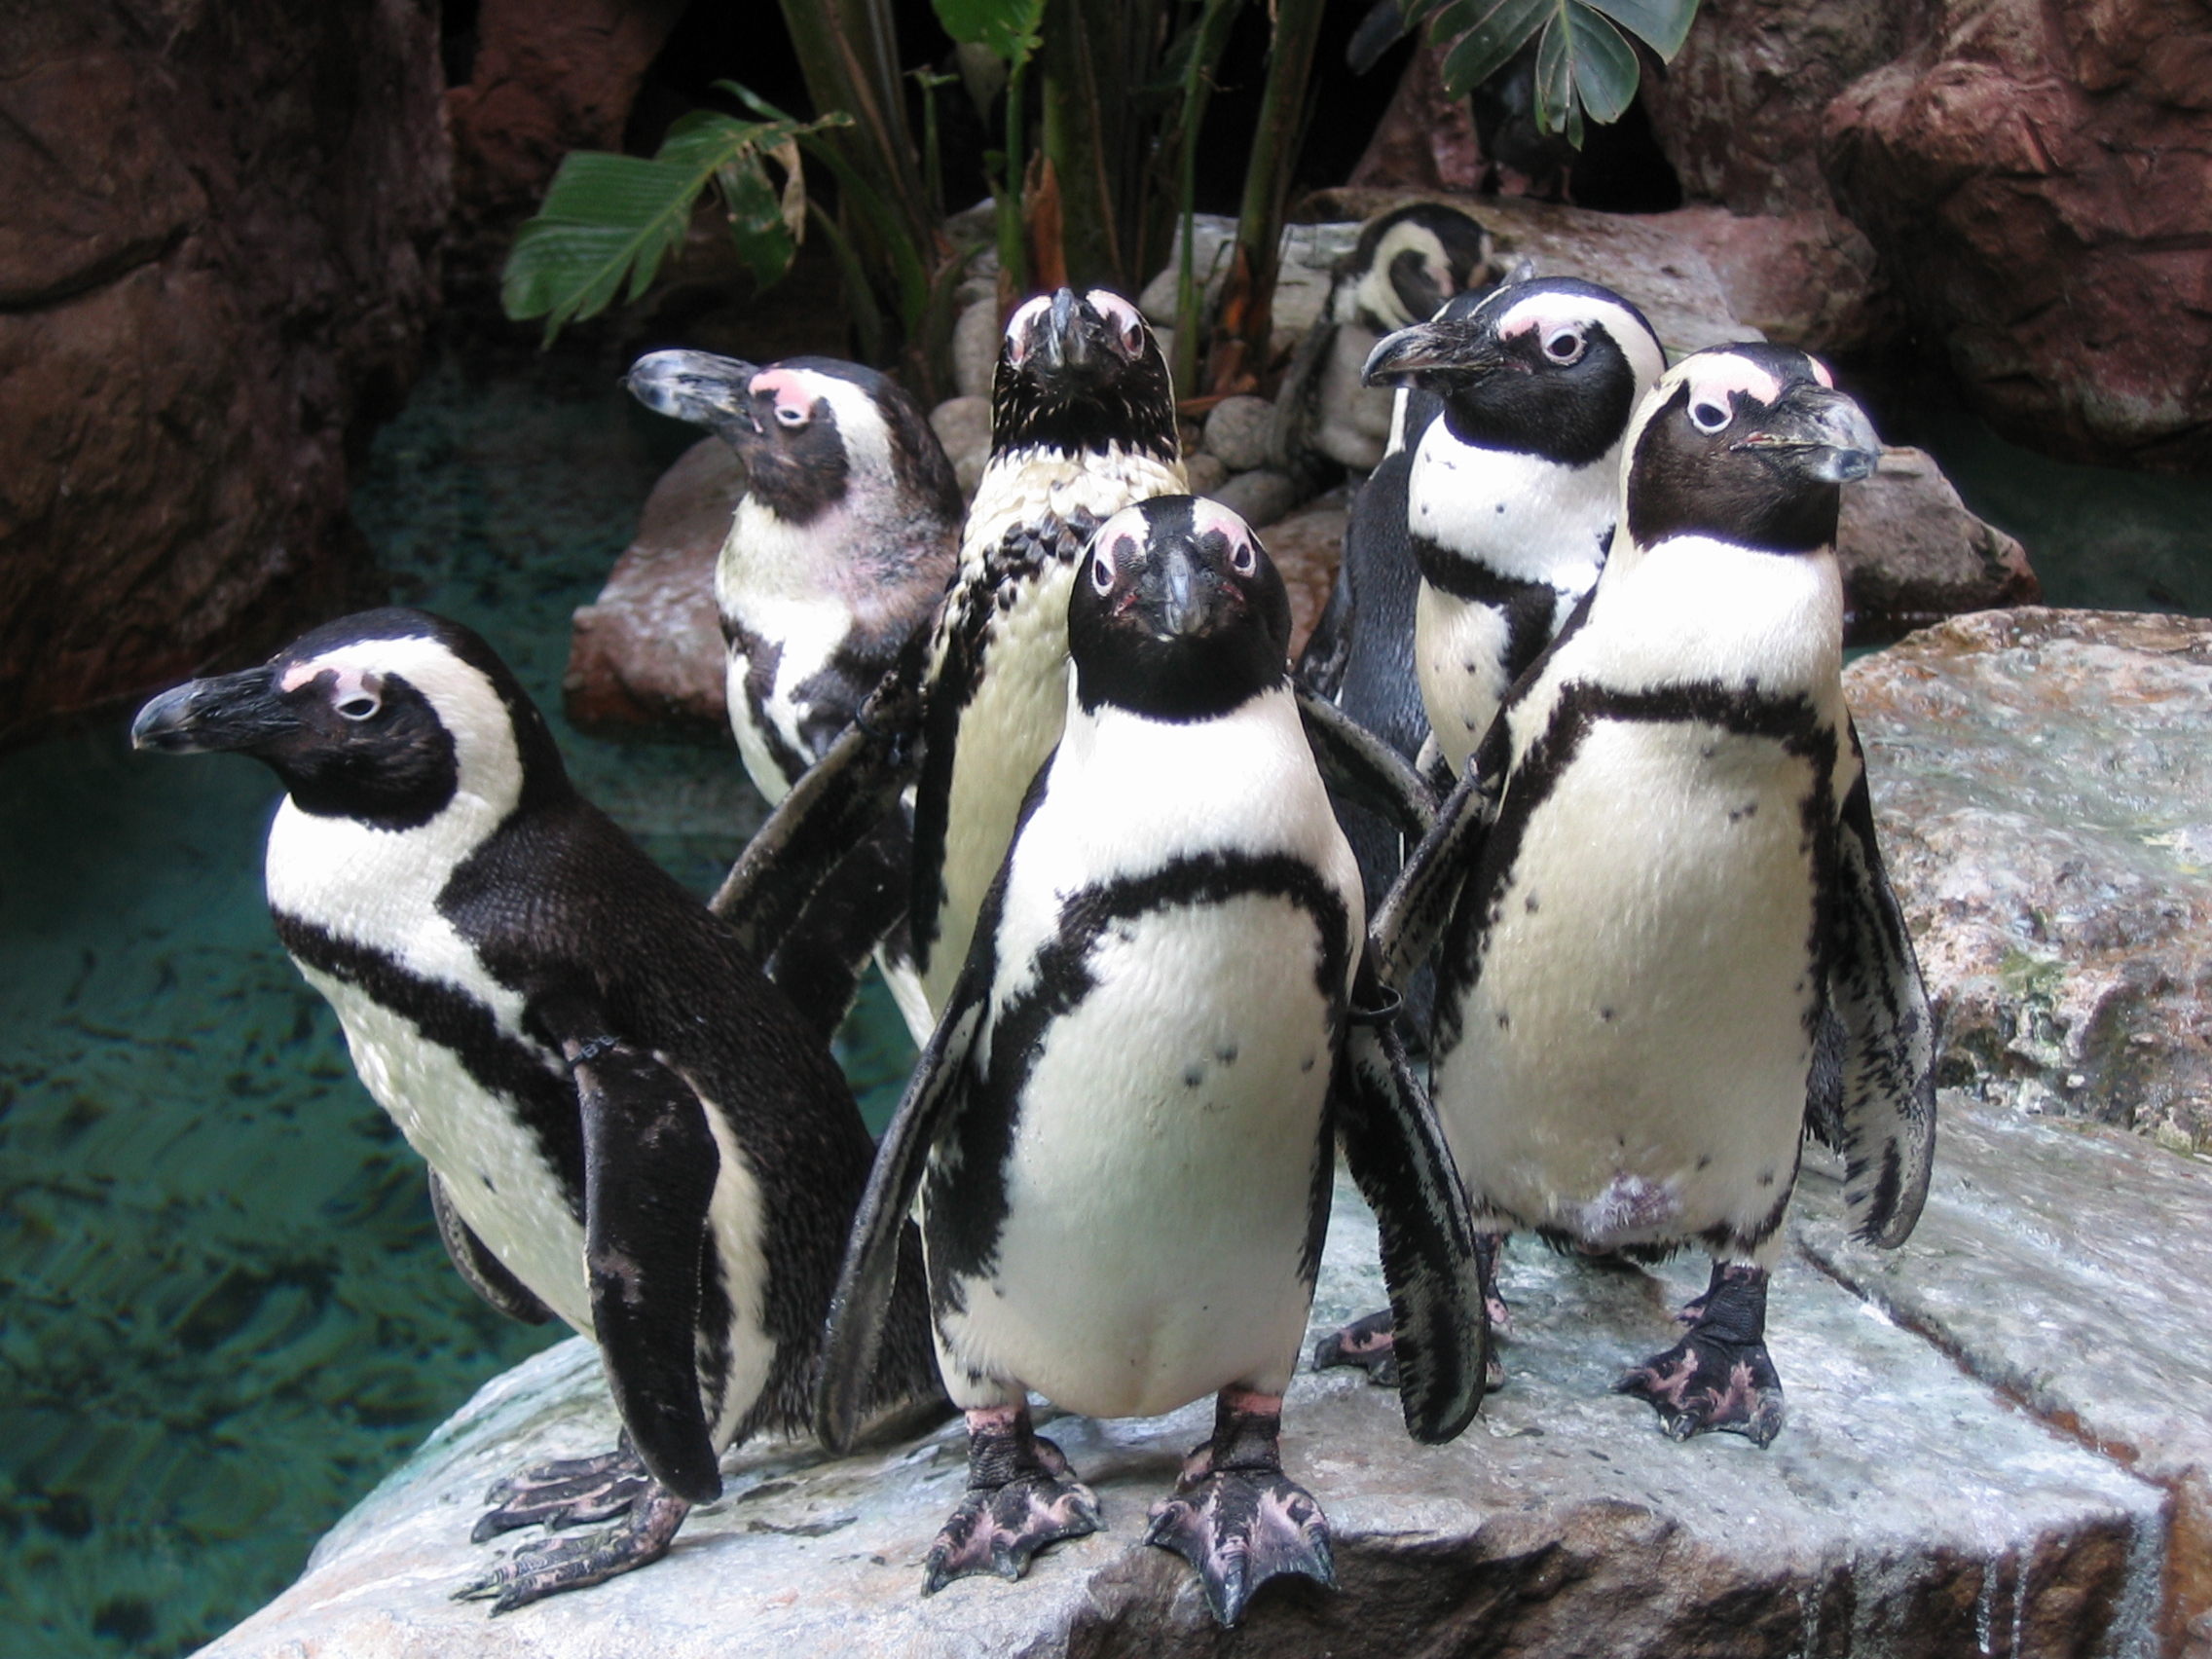penguin: (122, 594, 968, 1624), (831, 490, 1484, 1605), (1399, 349, 1972, 1445)
